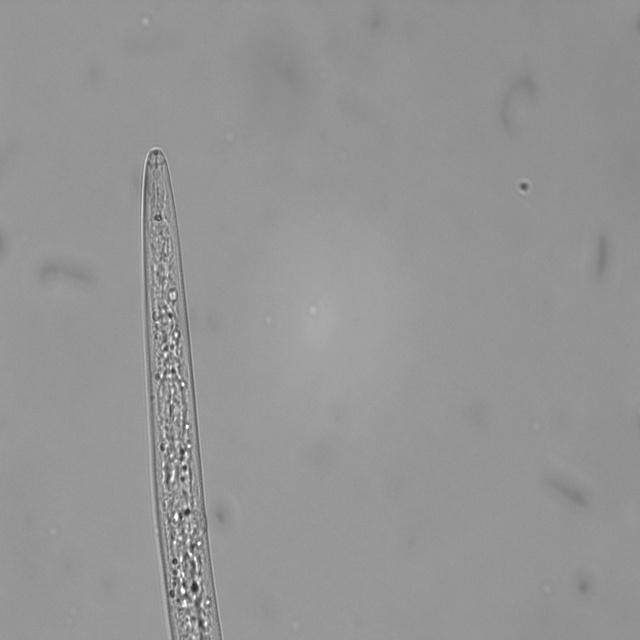Meloidogyne: (132, 140, 227, 640)
